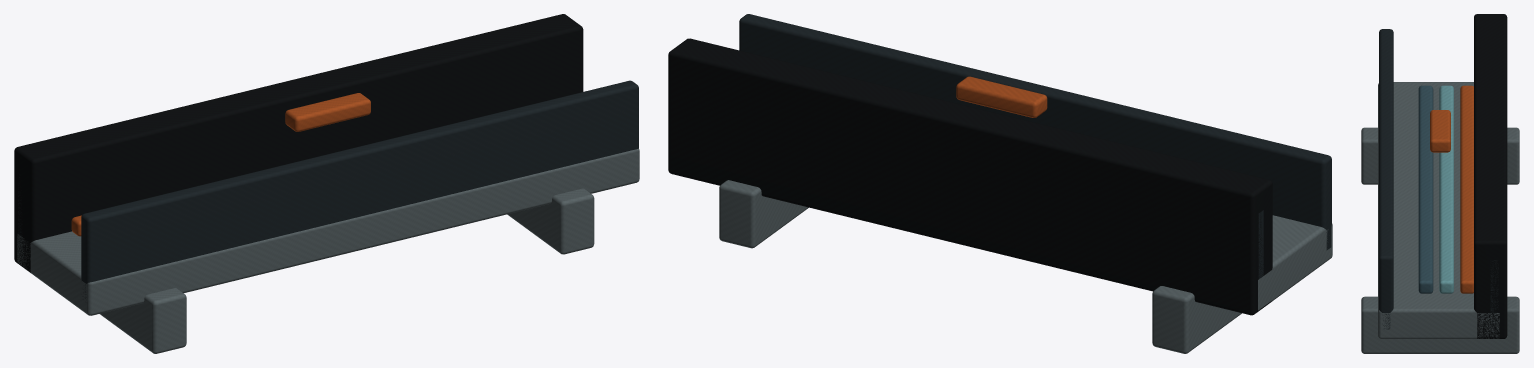
Rendered from CableTray.fbx.
3 renders of one model, left to right at view 1: azimuth 30°, elevation 25°; view 2: azimuth 150°, elevation 25°; view 3: azimuth 270°, elevation 25°, orthographic. The views are drawn at different scales.
Parts seen in each view (by area): view 1: CableTray_Mesh; view 2: CableTray_Mesh; view 3: CableTray_Mesh.
Part boxes in pixels (box(x1,y1,x2,y2)): CableTray_Mesh: box(14, 14, 639, 353); CableTray_Mesh: box(668, 14, 1332, 353); CableTray_Mesh: box(1361, 14, 1519, 353).
Size of the model in its own units: 130 by 36.75 by 38.
Materials: 6 (6 with a texture image).
